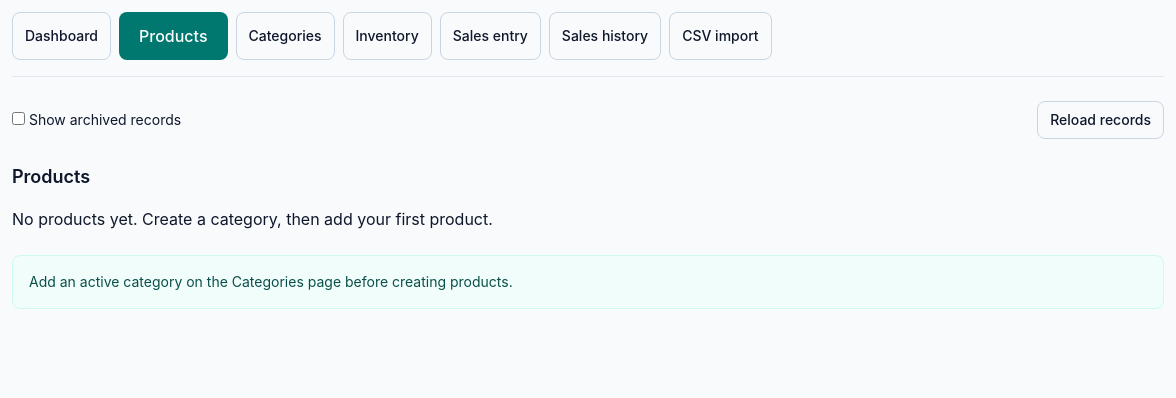
Test: manager creates a category and sees refreshed data
Expected: the text "No products yet. Create a category, then add your first product." is shown, [12,209,493,229]
Click the button "Categories" at (285, 36), box [236,12,334,60]
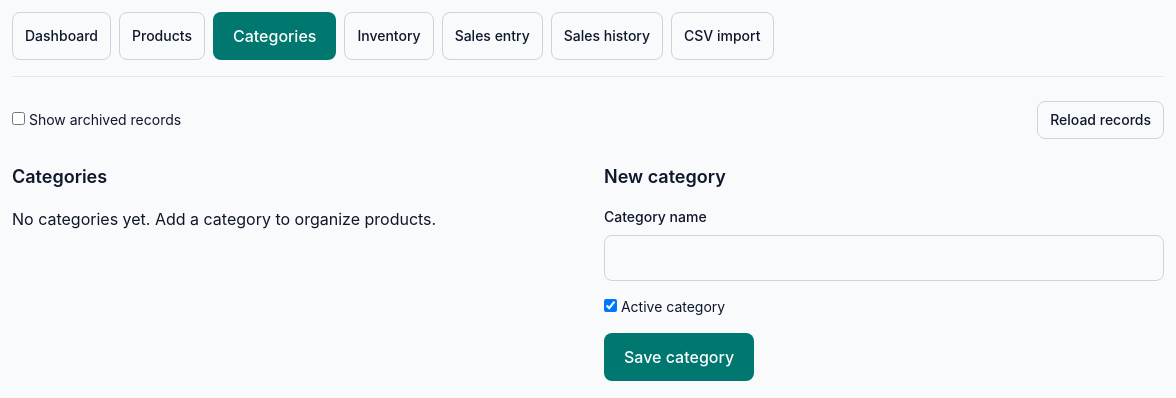
Type "Food" into the field labelled "Category name" at (884, 258), box [604,235,1164,281]
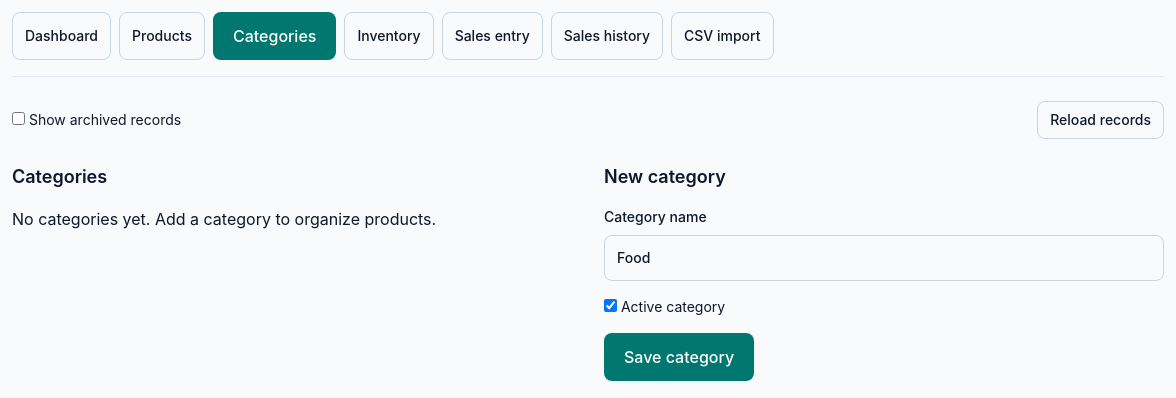
Click the button "Save category" at (679, 357), box [604,333,754,381]
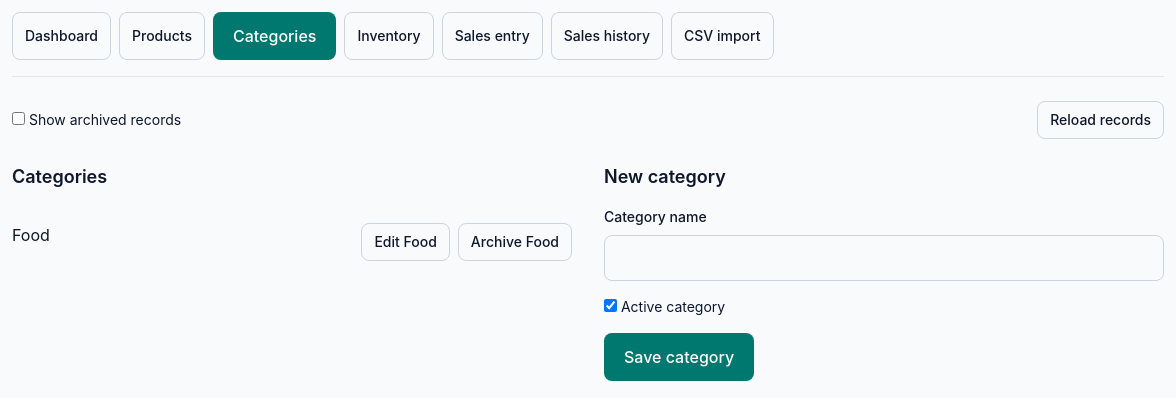
Now the button "Edit Food" is shown, box [361,223,450,261]
